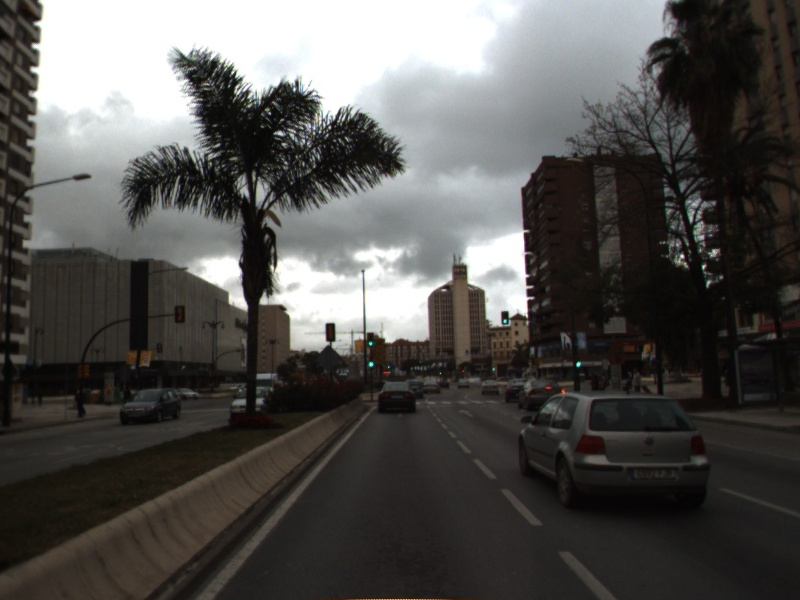STRAIGHT: (456, 407, 477, 420)
